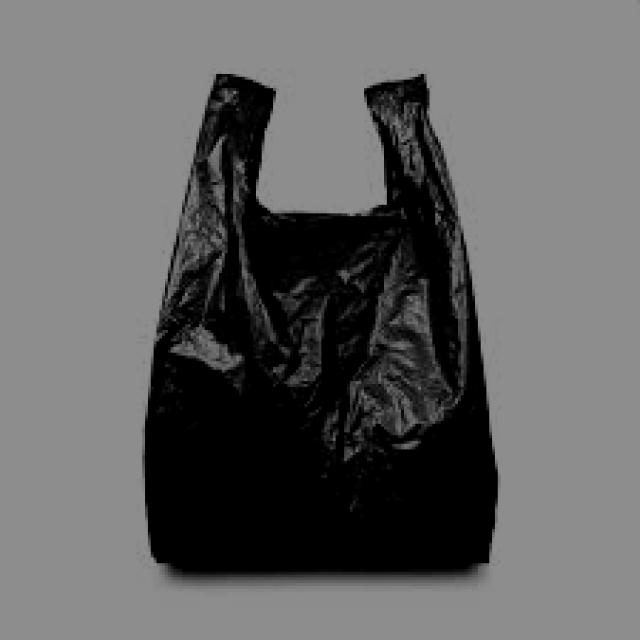residual: (138, 48, 506, 586)
